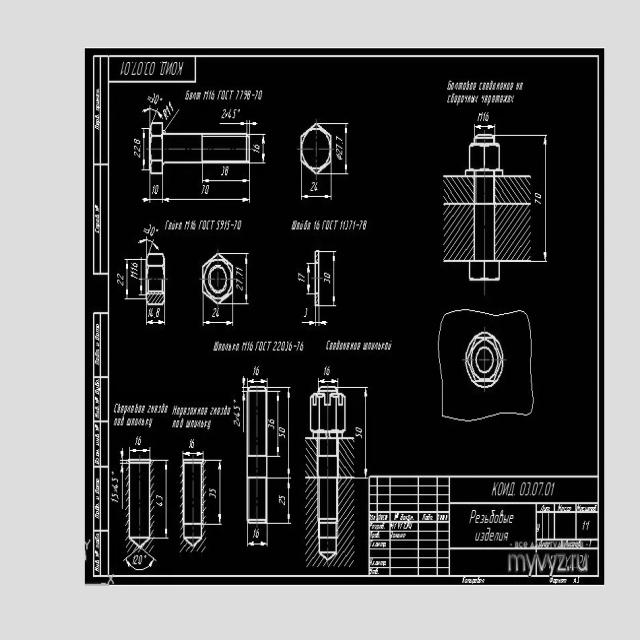marking_line: (126, 548, 157, 572), (543, 138, 549, 260), (163, 196, 249, 203), (163, 460, 169, 536), (286, 389, 291, 476), (164, 109, 182, 133), (364, 389, 368, 478), (137, 238, 162, 251), (218, 461, 223, 525), (331, 252, 337, 305), (119, 447, 124, 509), (142, 107, 162, 122), (202, 179, 250, 184), (141, 131, 147, 169), (474, 122, 496, 132), (260, 135, 267, 164), (244, 255, 248, 304), (277, 395, 280, 455), (204, 320, 233, 326), (247, 540, 268, 548), (287, 480, 291, 522), (345, 124, 348, 173), (219, 121, 247, 126), (306, 264, 311, 292), (183, 450, 203, 457), (247, 378, 267, 385), (130, 447, 149, 454), (147, 319, 165, 325), (319, 378, 337, 384), (302, 195, 331, 198), (242, 377, 245, 406), (301, 320, 314, 326), (126, 260, 128, 299), (319, 319, 328, 326), (142, 197, 151, 203), (250, 121, 259, 127)
numeric: (109, 472, 120, 506), (131, 134, 142, 159), (232, 404, 243, 429), (221, 108, 242, 121), (233, 89, 252, 101), (235, 267, 244, 292), (333, 136, 343, 155), (477, 111, 492, 123), (164, 100, 175, 116), (130, 263, 140, 280), (532, 192, 542, 209), (132, 553, 145, 566), (150, 91, 161, 106), (322, 271, 332, 287), (148, 307, 162, 318), (295, 270, 306, 284), (114, 272, 124, 286), (157, 490, 164, 510), (253, 364, 262, 379), (355, 425, 364, 440), (212, 306, 223, 318), (277, 494, 287, 507), (252, 142, 261, 155), (221, 166, 231, 177), (309, 181, 319, 192), (146, 225, 155, 237), (208, 486, 217, 498), (279, 426, 287, 439), (150, 185, 160, 195), (268, 417, 275, 431), (254, 89, 262, 101), (253, 527, 261, 539), (201, 185, 211, 194), (186, 438, 195, 448), (324, 365, 332, 376), (134, 436, 143, 445)
